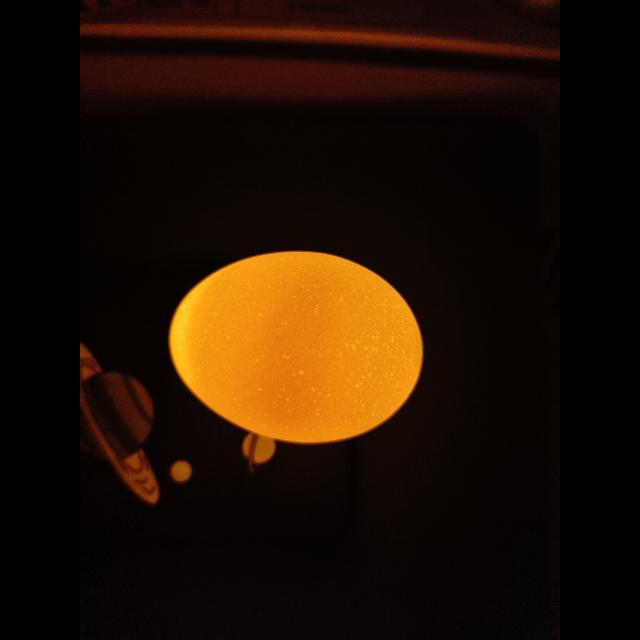AA - Premium: (169, 251, 423, 444), (310, 319, 313, 321)
